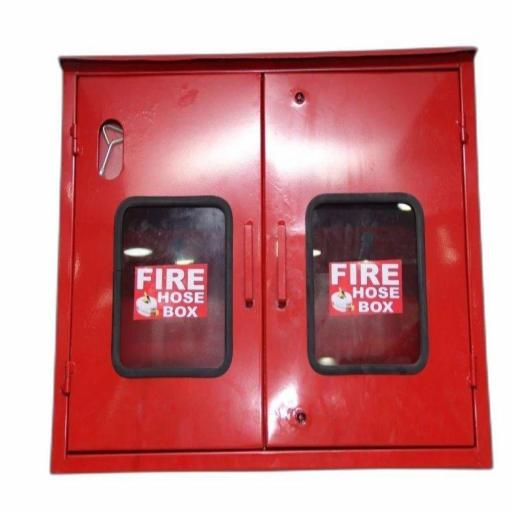fire_hose: (45, 45, 497, 477)
